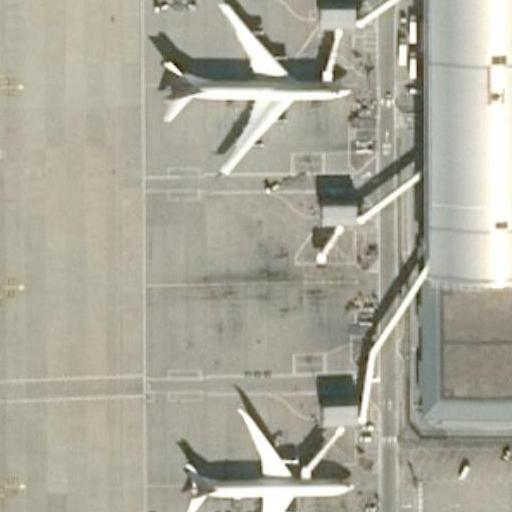Aircraft: (142, 0, 350, 170), (171, 395, 357, 512)
